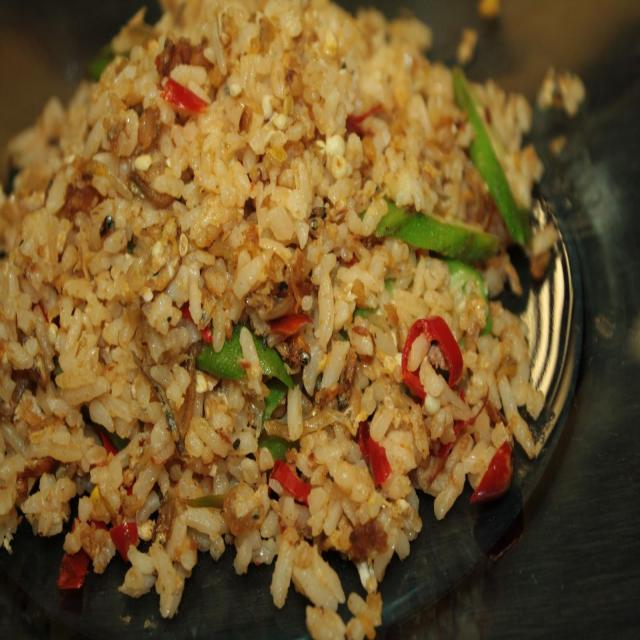Nasi Goreng: (1, 1, 558, 636)
